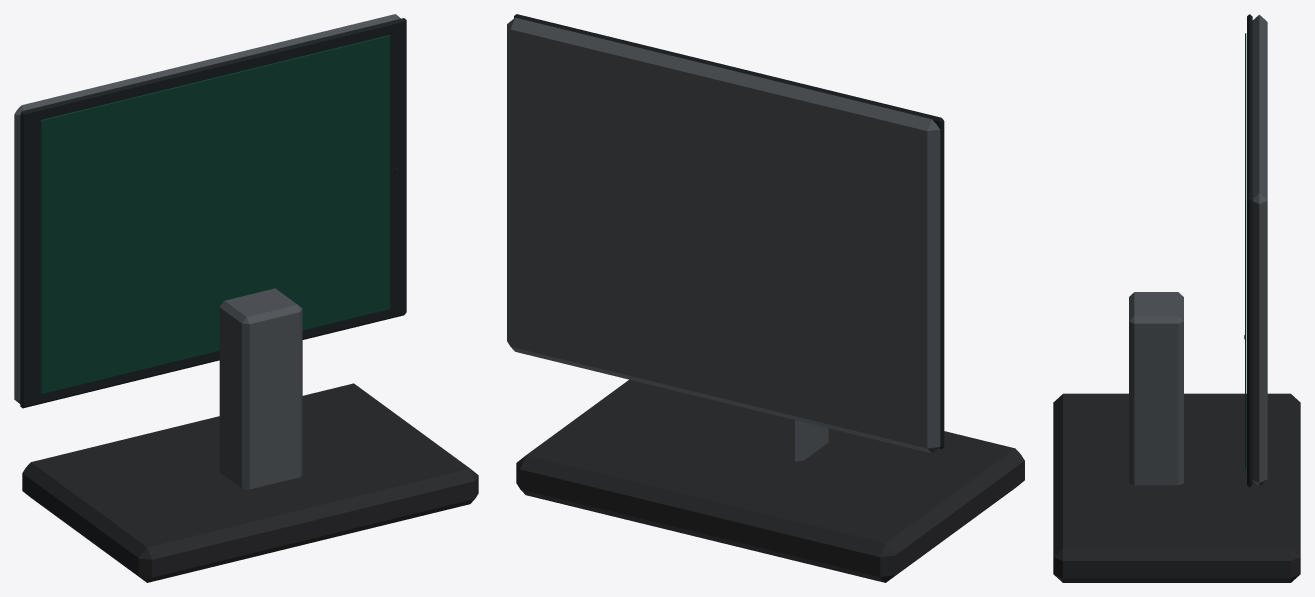
The model's file is good.glb.
3 views of the same model, side by side, from view 1: azimuth 30°, elevation 25°; view 2: azimuth 150°, elevation 25°; view 3: azimuth 270°, elevation 25° (orthographic). The views are drawn at different scales.
Visible parts, largest first — view 1: Display landscape, Support base, Bezel, Support arm, iPad body; view 2: iPad body, Support base, Bezel, Support arm; view 3: Support base, Support arm, iPad body, Bezel, Display landscape.
Part boxes in pixels (x1,y1,x2,y2): Display landscape: (40,35,390,394); Support base: (22,383,478,582); Bezel: (20,18,406,408); Support arm: (219,288,302,489); iPad body: (14,14,400,403); iPad body: (507,17,940,453); Support base: (516,379,1024,582); Bezel: (514,14,944,448); Support arm: (736,405,828,461); Support base: (1053,393,1300,582); Support arm: (1129,292,1183,485); iPad body: (1252,14,1267,486); Bezel: (1247,14,1252,486); Display landscape: (1245,33,1246,468).
Size of the model in its own units: 0.32 by 0.323 by 0.18.
